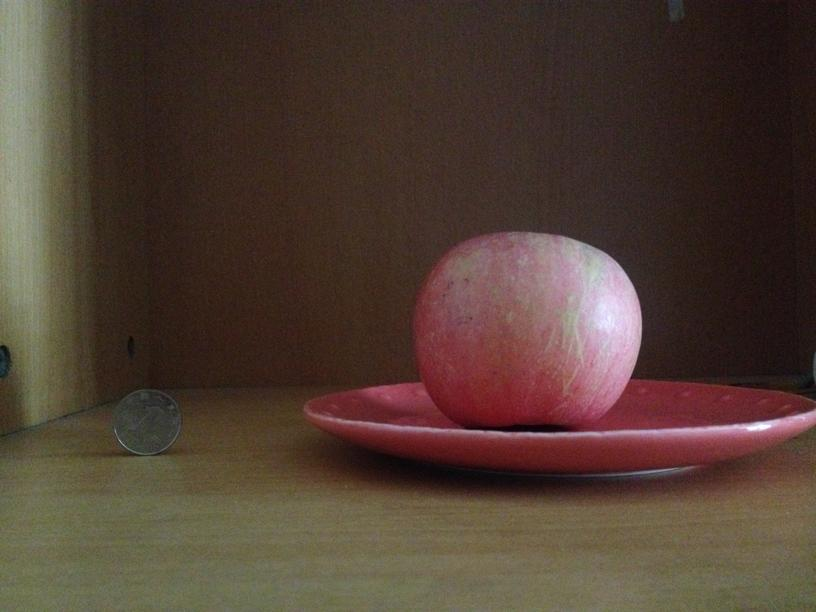apple: (413, 234, 643, 427)
coin: (114, 390, 182, 455)
